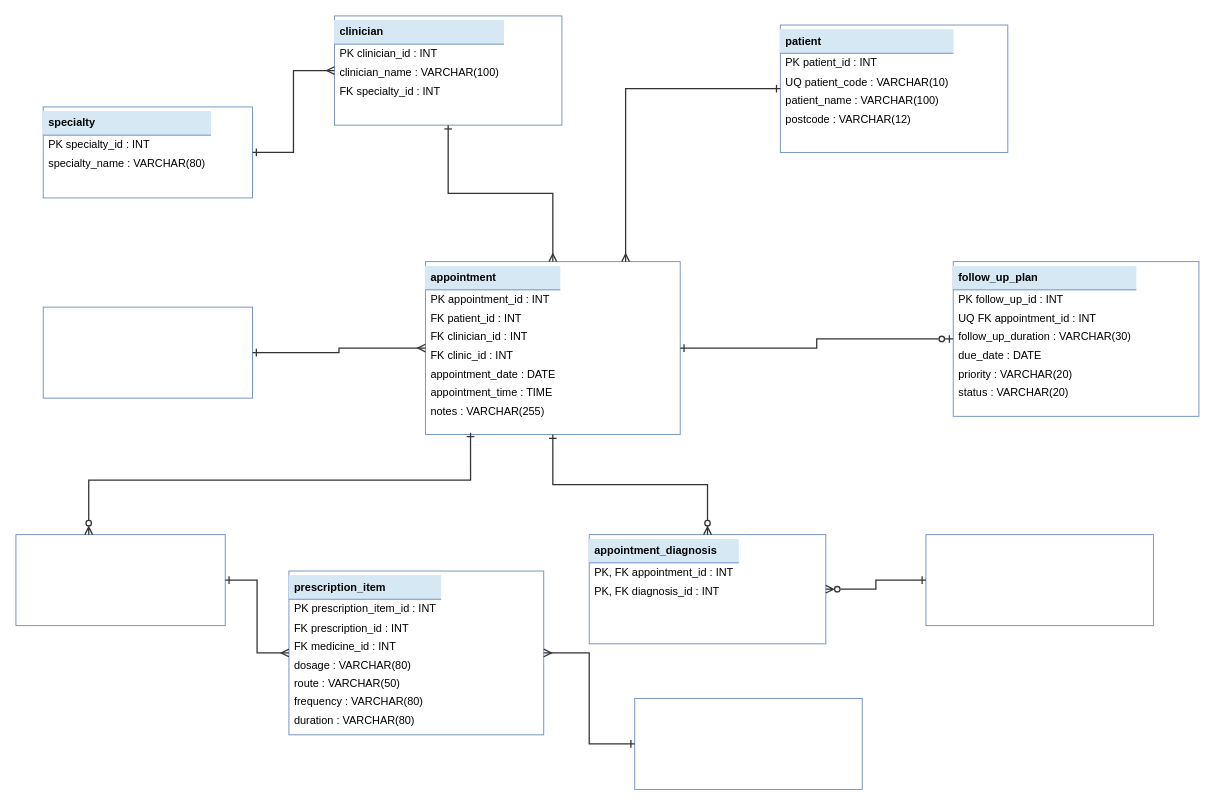
Some shapes in this 1215 by 810 pixel diagram are drawn without their labels. The centre of each missing label's shape, as x and y in pixels:
"clinic PK clinic_id : INT clinic_name : VARCHAR(80)" belongs at [147,352].
"diagnosis PK diagnosis_id : INT diagnosis_name : VARCHAR(120)" belongs at [1039,580].
"medicine PK medicine_id : INT medicine_name : VARCHAR(120)" belongs at [748,743].
"prescription PK prescription_id : INT FK appointment_id : INT" belongs at [120,580].
